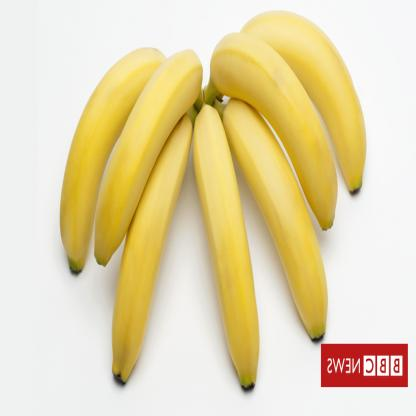banana: (198, 31, 350, 234), (103, 103, 209, 388), (91, 45, 209, 294), (217, 93, 335, 335), (57, 33, 166, 280), (245, 11, 365, 207), (190, 94, 259, 401)
